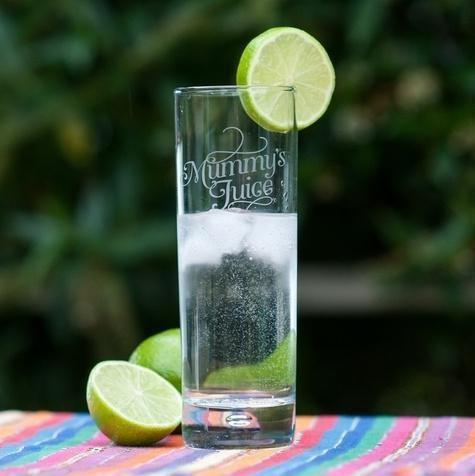glass-normal: (171, 82, 302, 452)
